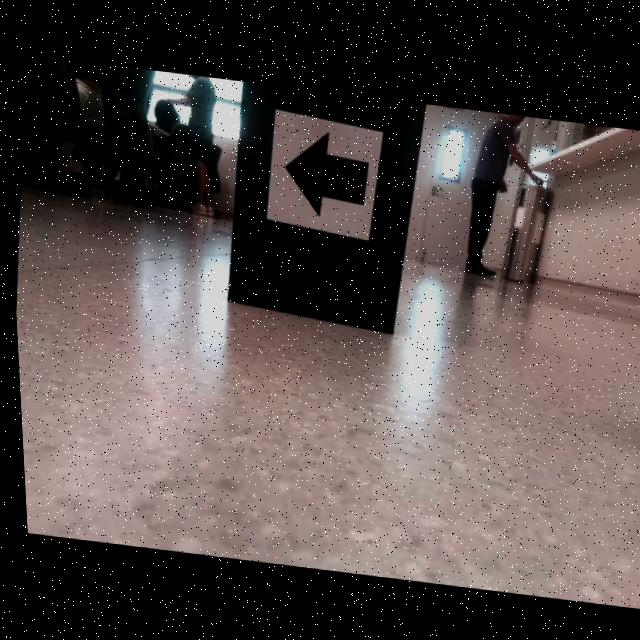LEFT: (282, 128, 367, 216)
